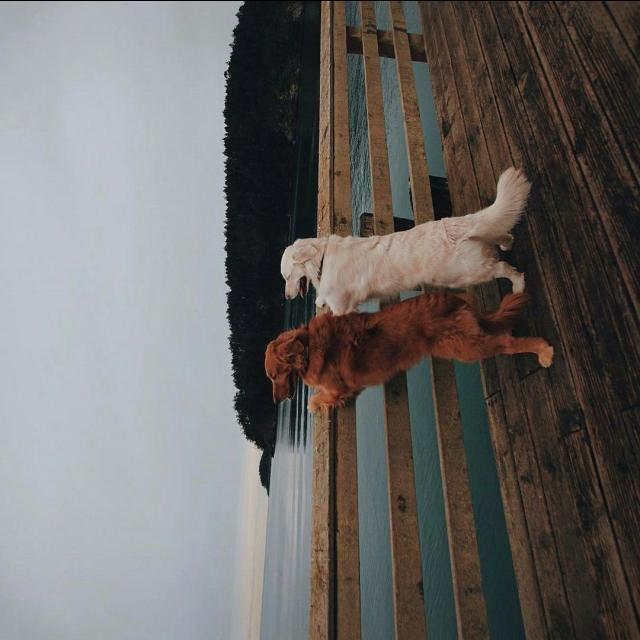Dogs: (274, 168, 530, 348), (255, 279, 557, 422)
